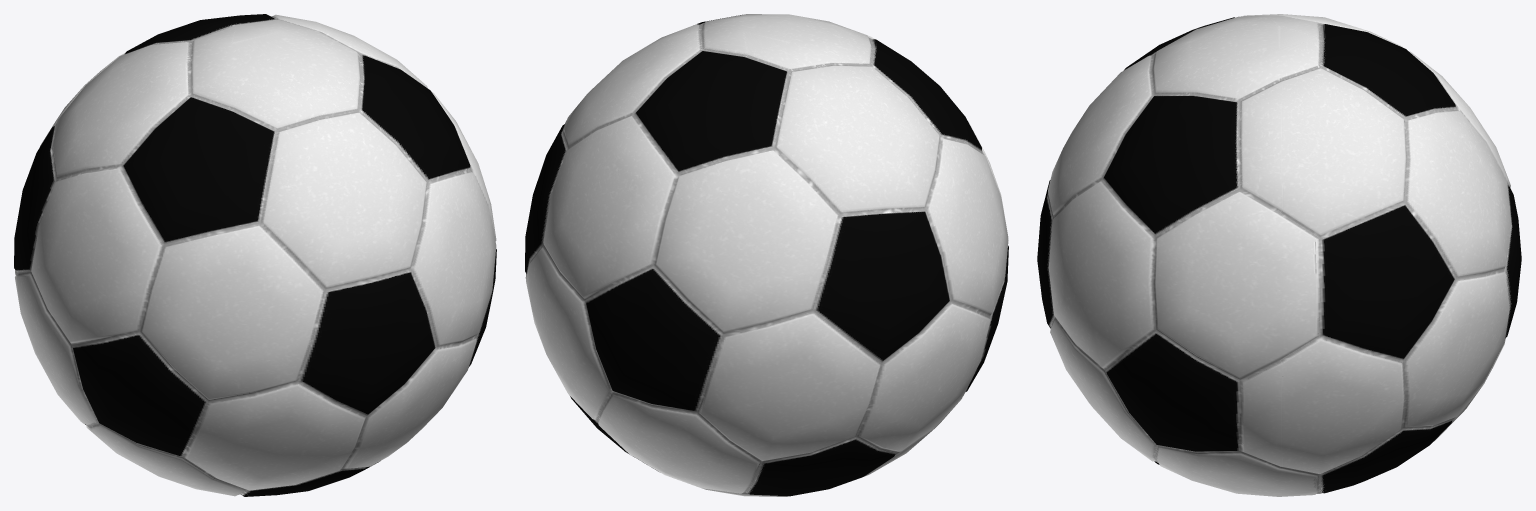
Rendered from soccer_ball_a9ed84b0.glb.
3 views of the same model, side by side, from view 1: azimuth 30°, elevation 25°; view 2: azimuth 150°, elevation 25°; view 3: azimuth 270°, elevation 25° (orthographic).
Visible parts, largest first — view 1: Material1; view 2: Material1; view 3: Material1.
Part boxes in pixels (left/top/right/bottom): Material1: left=14, top=14, right=496, bottom=496; Material1: left=525, top=14, right=1008, bottom=496; Material1: left=1037, top=14, right=1521, bottom=496.
Size of the model in its own units: 200 by 199 by 200.
Materials: 1 (1 with a texture image).
